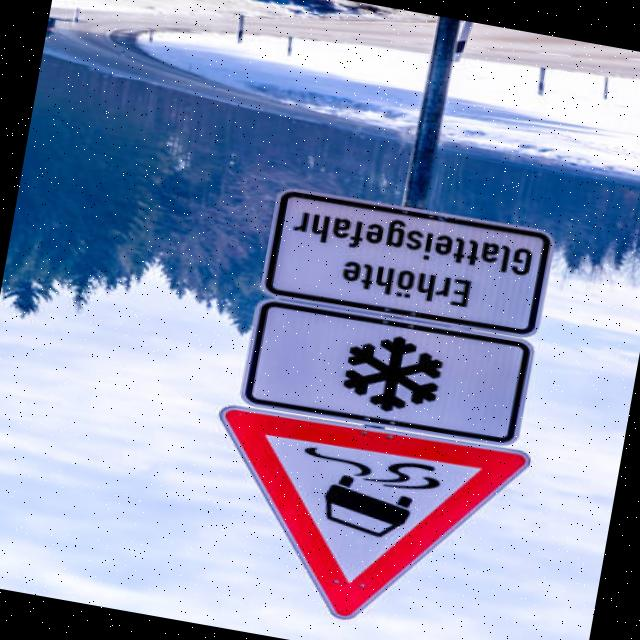road_slippery: (168, 393, 542, 640)
